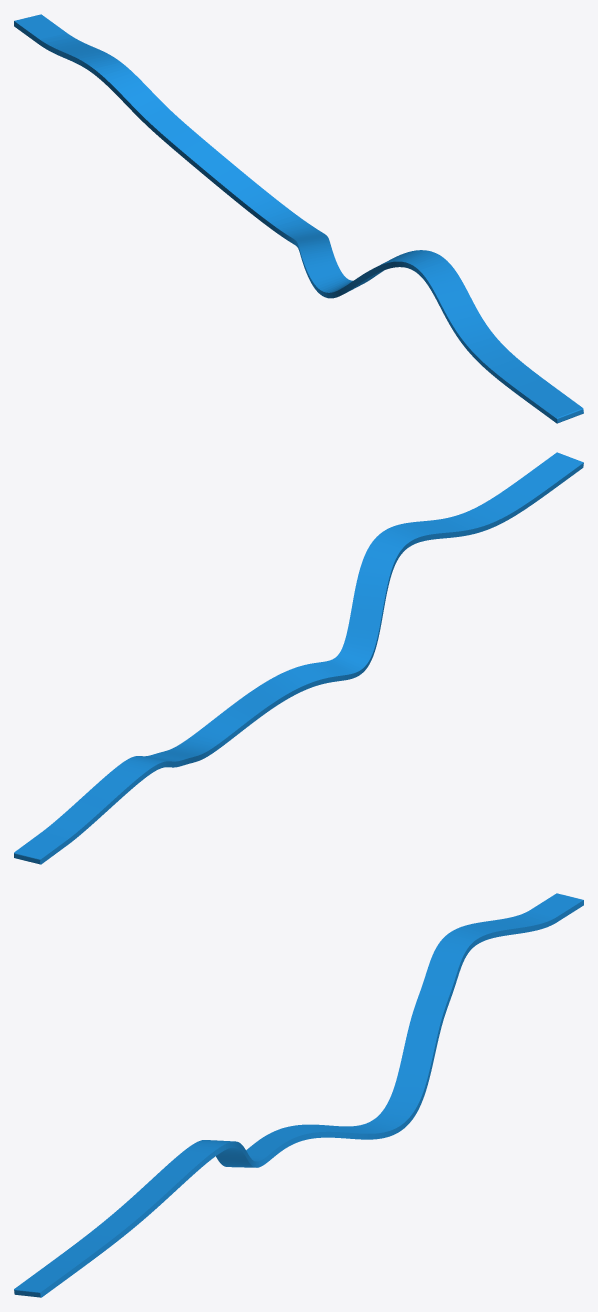
The model's file is Road.fbx.
3 views of the same model, one above another, from view 1: azimuth 30°, elevation 25°; view 2: azimuth 150°, elevation 25°; view 3: azimuth 330°, elevation 25° (orthographic).
Visible parts, largest first — view 1: Cube; view 2: Cube; view 3: Cube.
Part boxes in pixels (box(x1,y1,x2,y2)): Cube: box(14, 14, 583, 423); Cube: box(14, 452, 583, 864); Cube: box(14, 893, 583, 1297).
Size of the model in its own units: 539 by 591 by 6190.
